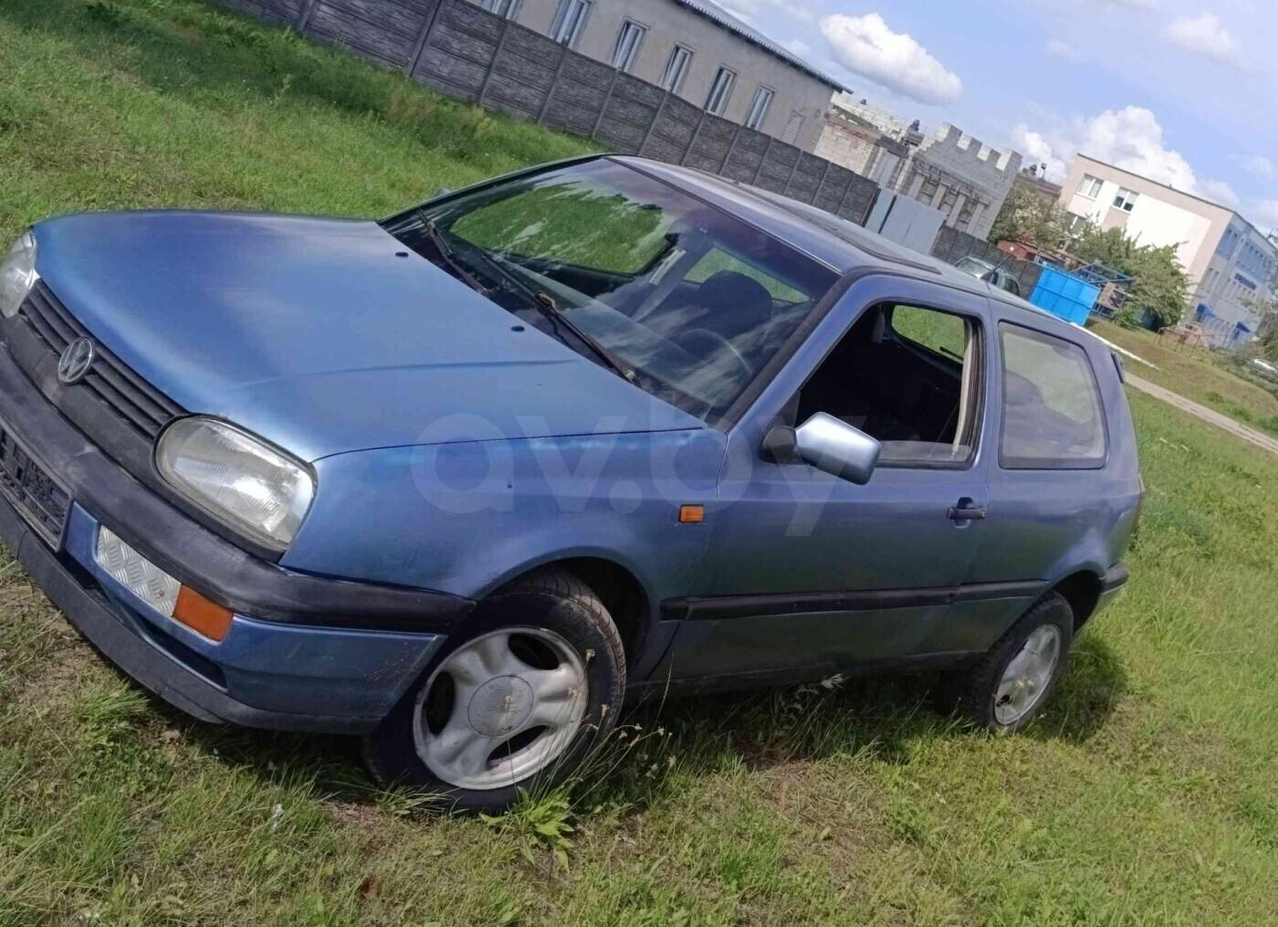Golf_1991-2000: (0, 148, 1152, 809)
